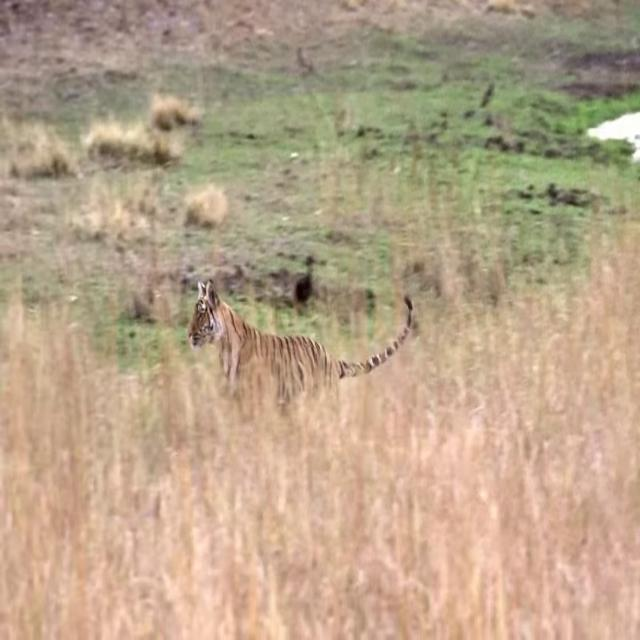tiger: (186, 279, 413, 403)
